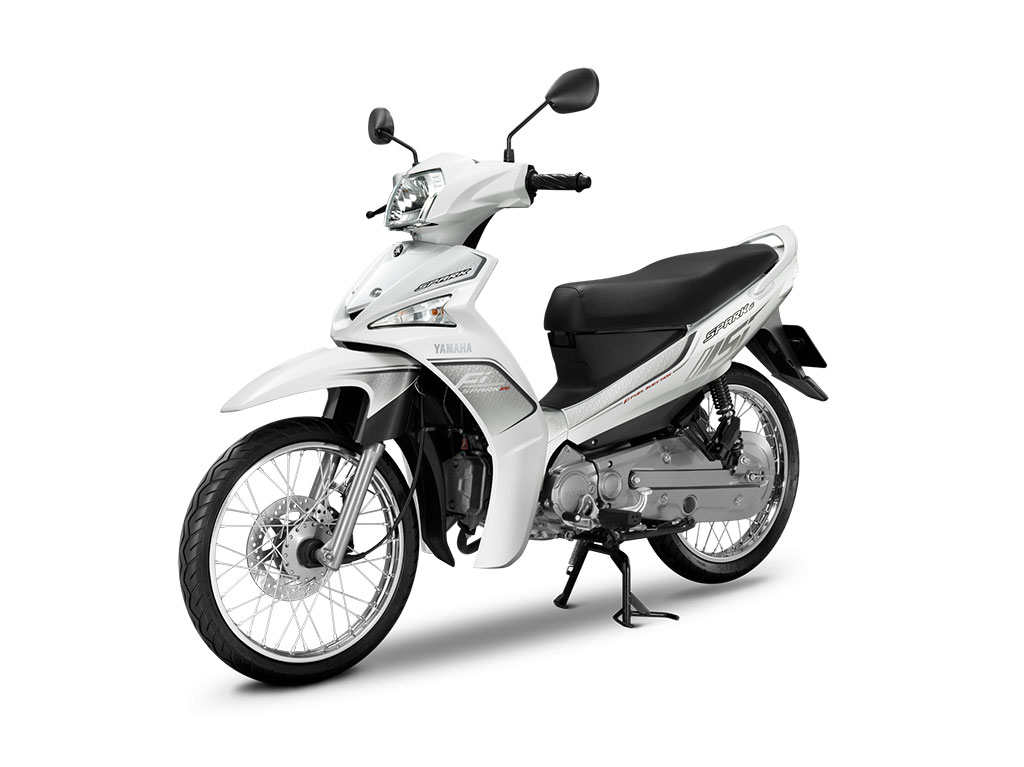motorcycle: (175, 148, 826, 684)
